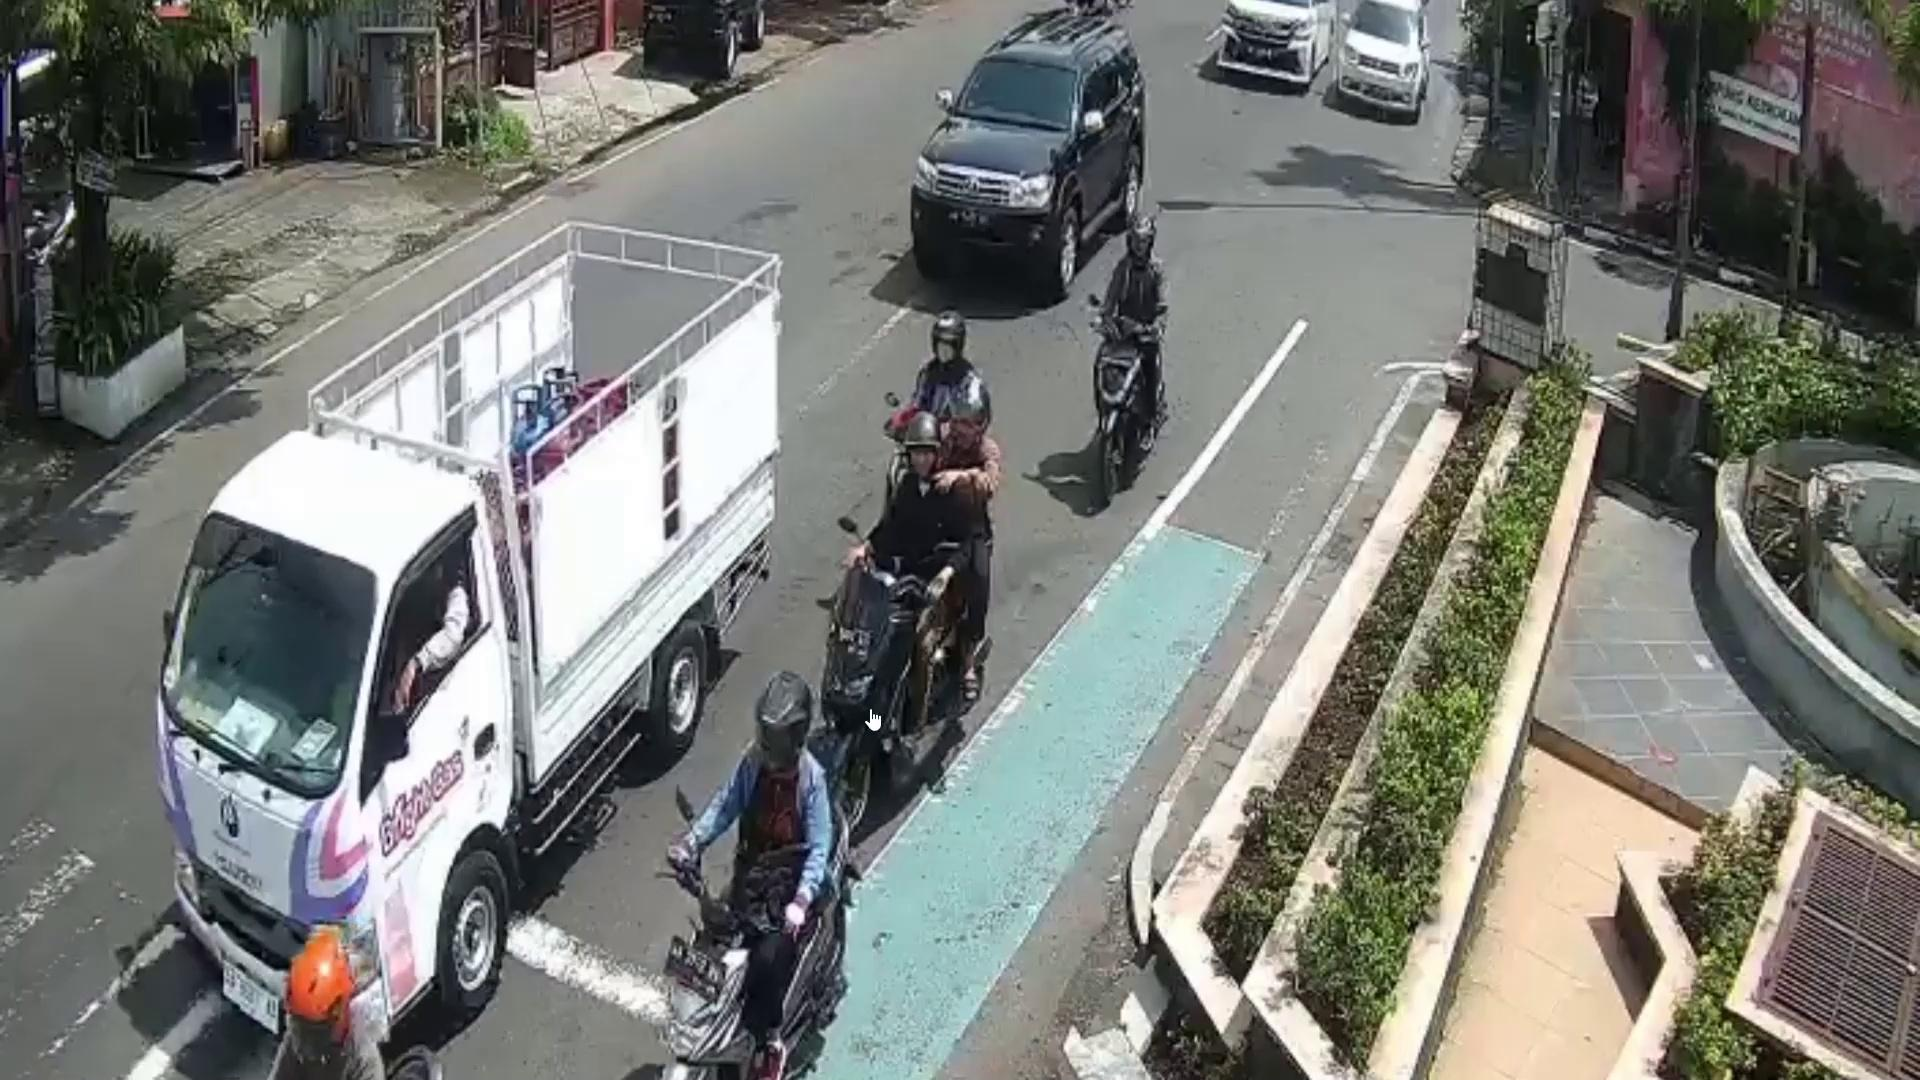car: (913, 8, 1142, 298), (1341, 0, 1433, 121), (1217, 0, 1333, 96)
motorbike: (667, 790, 853, 1080), (823, 555, 965, 815), (1095, 315, 1155, 500)
truck: (160, 222, 781, 1029)
